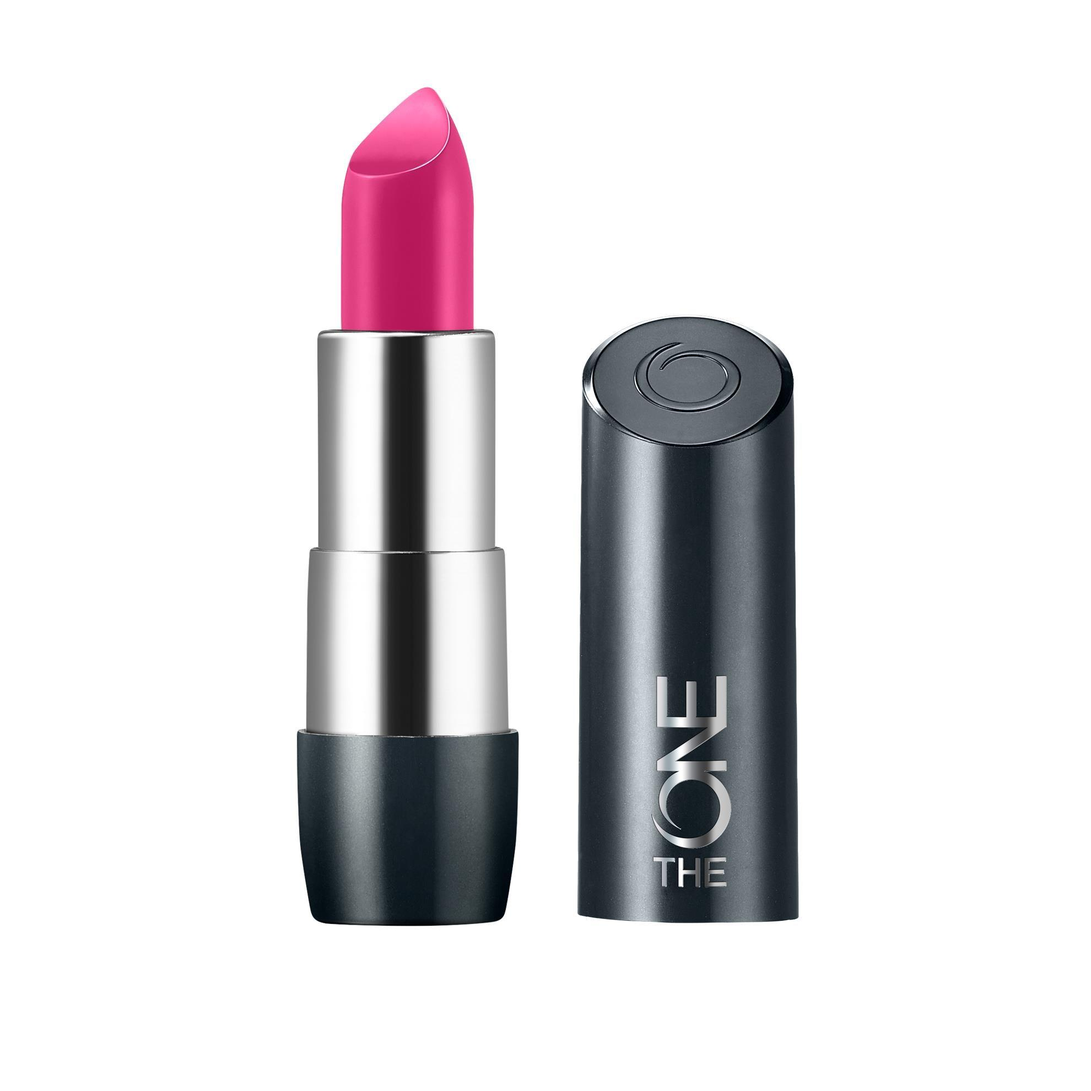lipstick: (277, 73, 546, 901)
